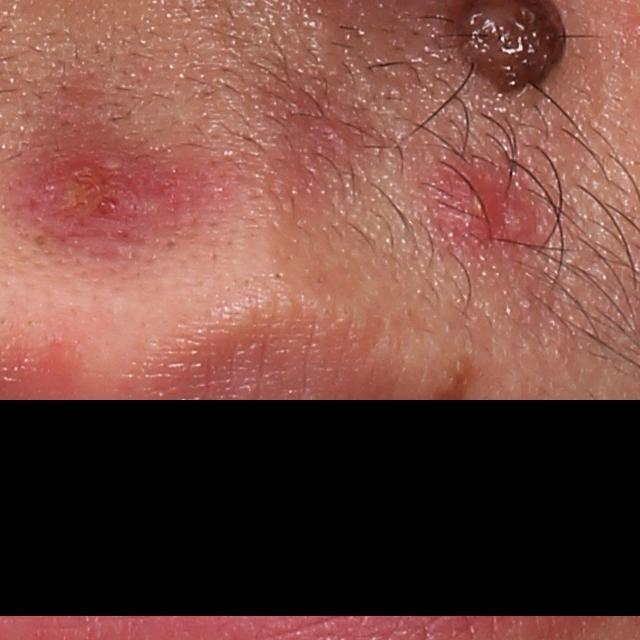nevus: (421, 351, 498, 405)
papule: (414, 166, 549, 259)
pustule: (35, 146, 168, 233)
